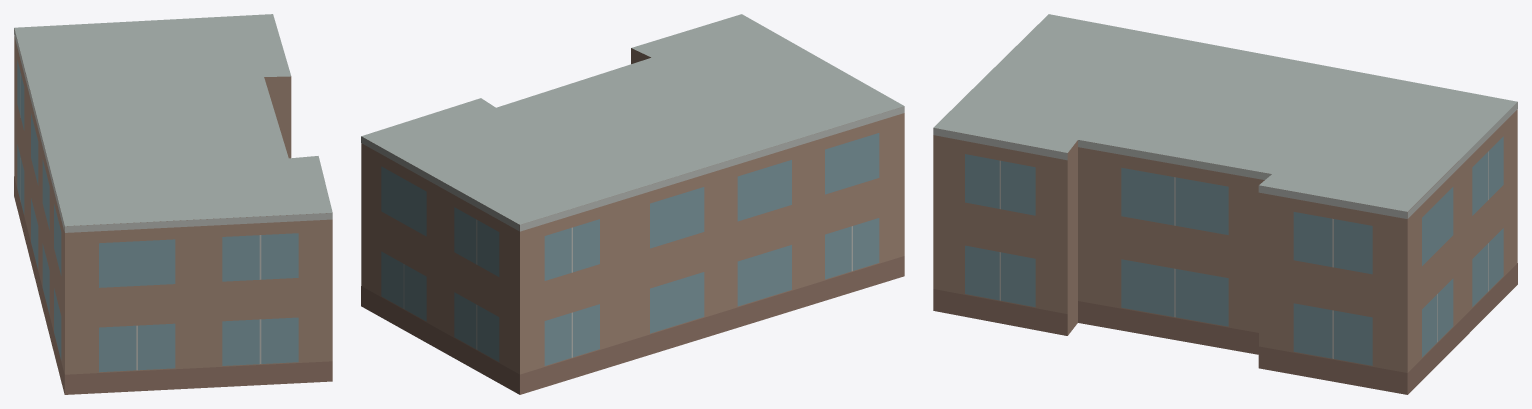
The model's file is survey-upis-32530916.glb.
3 views of the same model, side by side, from view 1: azimuth 30°, elevation 25°; view 2: azimuth 150°, elevation 25°; view 3: azimuth 270°, elevation 25° (orthographic). The views are drawn at different scales.
Visible parts, largest first — view 1: survey-upis-32530916.tmp; view 2: survey-upis-32530916.tmp; view 3: survey-upis-32530916.tmp.
Boxes of the visible parts, x1=… form: survey-upis-32530916.tmp: x1=14, y1=14, x2=332, y2=394; survey-upis-32530916.tmp: x1=361, y1=14, x2=904, y2=394; survey-upis-32530916.tmp: x1=933, y1=14, x2=1517, y2=394.
Bounding box in the file's own units: 14.15 × 6.1 × 17.67.
